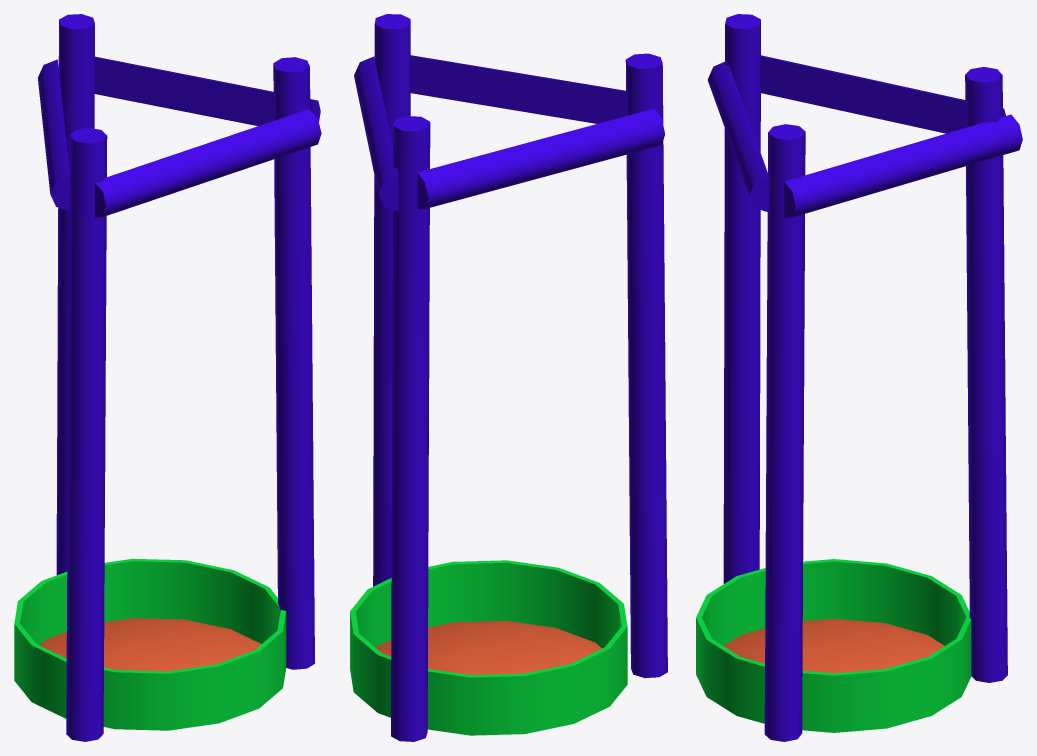
Rendered from Tree.fbx.
The picture shows the model from 3 angles, left to right: view 1: azimuth 30°, elevation 25°; view 2: azimuth 150°, elevation 25°; view 3: azimuth 270°, elevation 25°; orthographic projection.
Parts seen in each view (by area): view 1: Circle.001; view 2: Circle.001; view 3: Circle.001.
Boxes of the visible parts, <box> form: Circle.001: <box>14,14,321,741</box>; Circle.001: <box>350,14,667,741</box>; Circle.001: <box>696,14,1022,741</box>.
Bounding box in the file's own units: 253 × 501 × 247.
